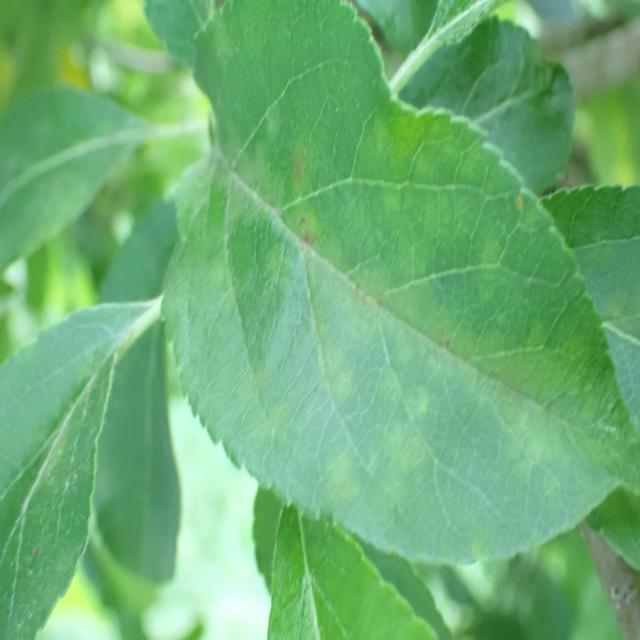scab: (198, 123, 632, 515)
